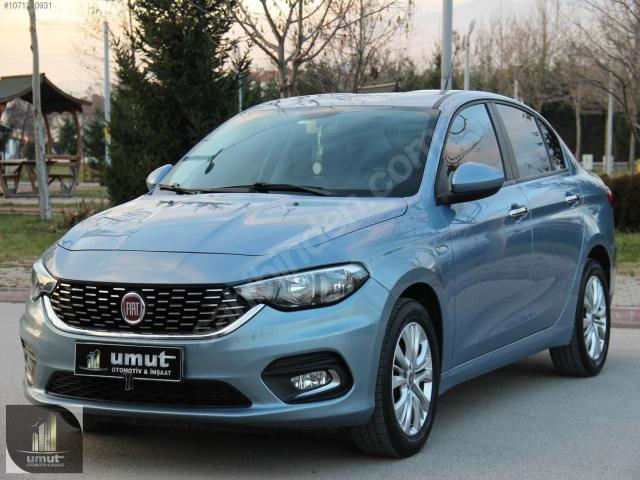plaka: (75, 343, 183, 381)
